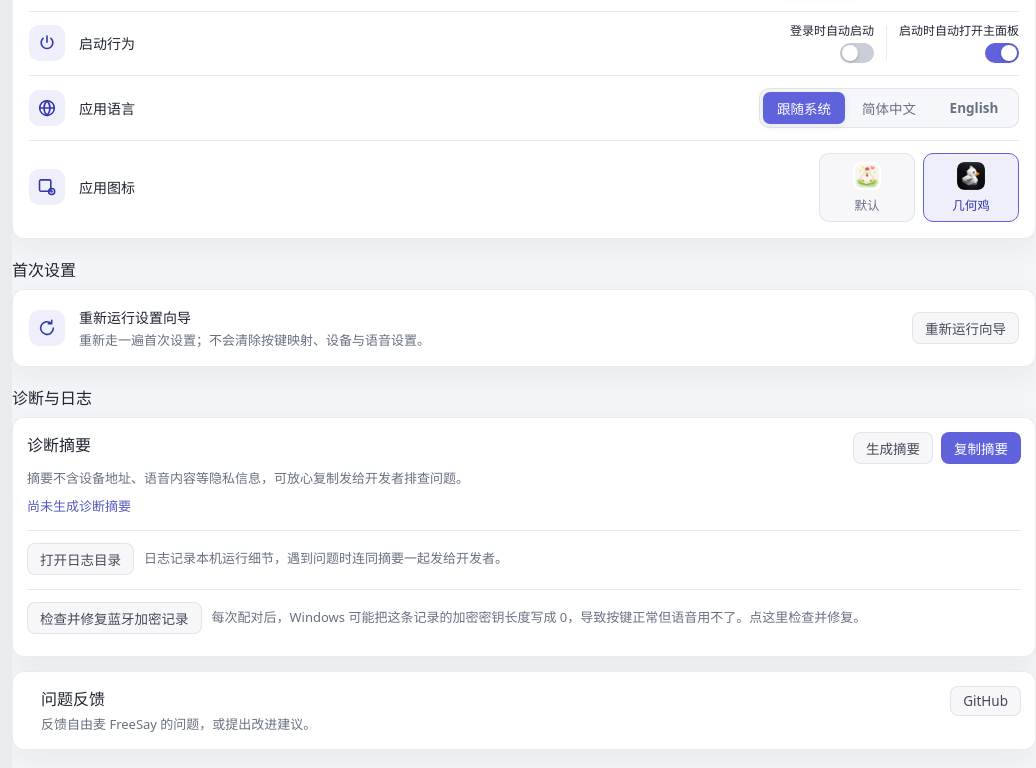
Test case: settings page › 入口打开失败时就地显示原因而不是静默
官网按钮已移除（2026-11-17），改用剩下的 GitHub 入口验证同一条失败路径。
Click the button "GitHub" at [986, 701], box left=950, top=686, right=1021, bottom=716
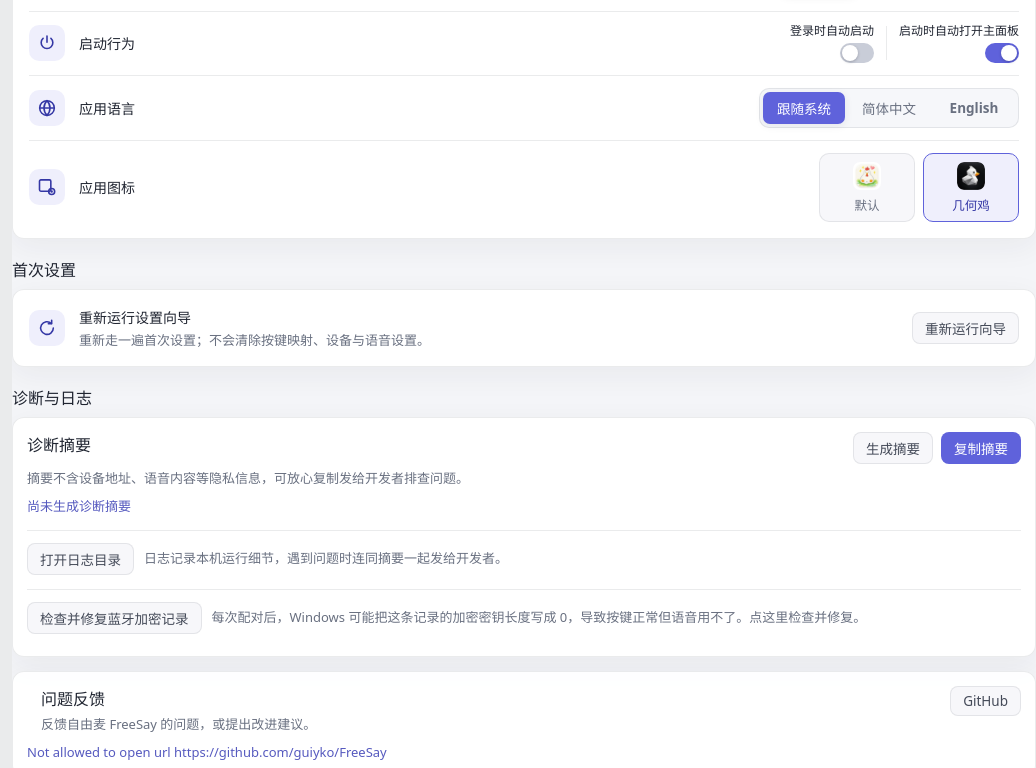
Expected: the text "Not allowed to open url" is shown, left=27, top=742, right=387, bottom=760
